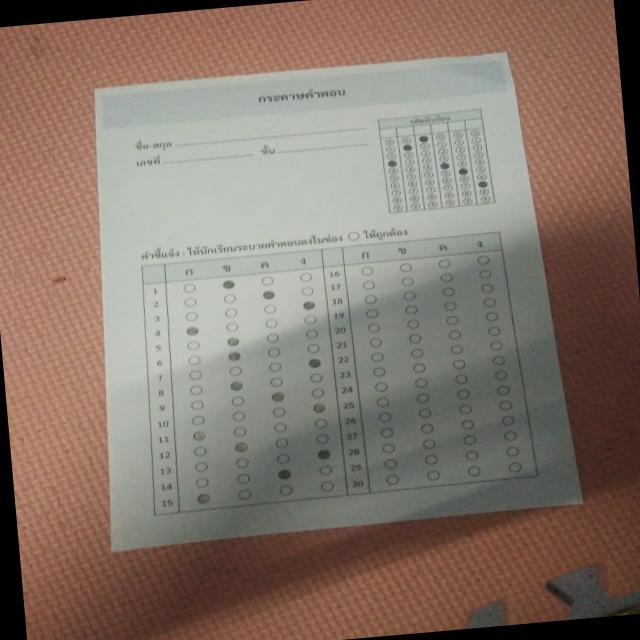Choice: (123, 224, 547, 521)
ID: (370, 101, 504, 220)
